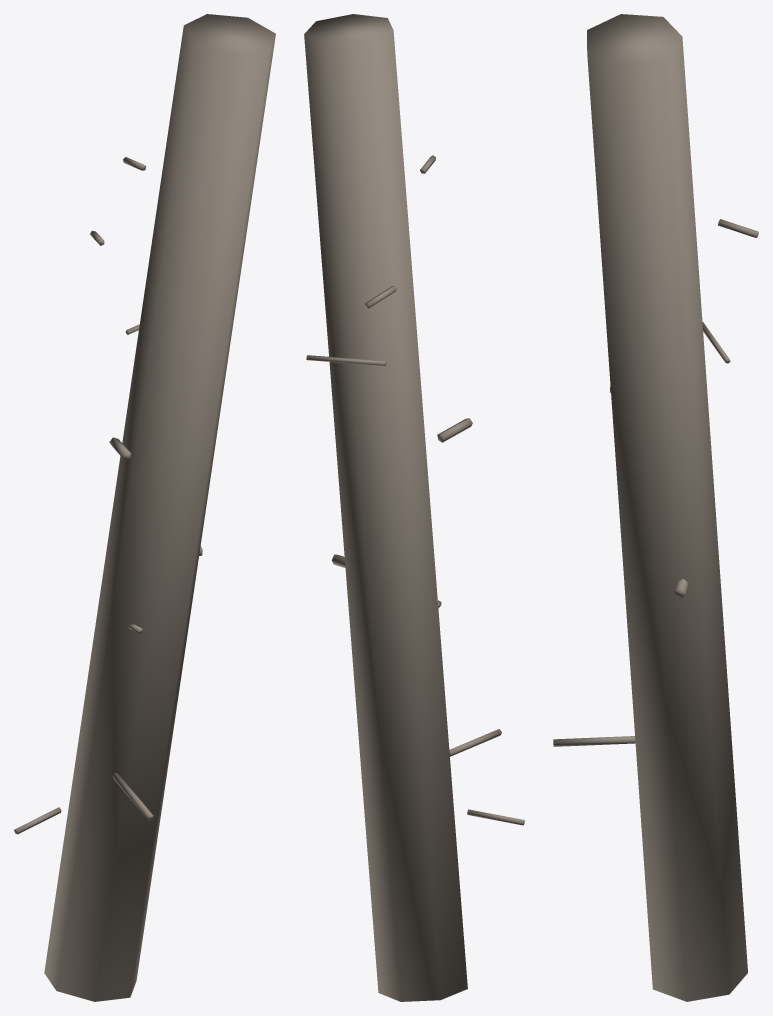
The model's file is snag_dead_broken.glb.
3 renders of one model, left to right at view 1: azimuth 30°, elevation 25°; view 2: azimuth 150°, elevation 25°; view 3: azimuth 270°, elevation 25°, orthographic. The views are drawn at different scales.
Parts seen in each view (by area): view 1: snag_dead_broken; view 2: snag_dead_broken; view 3: snag_dead_broken.
Part boxes in pixels (bbox=[...]): snag_dead_broken: bbox=[14, 14, 275, 1001]; snag_dead_broken: bbox=[304, 14, 524, 1001]; snag_dead_broken: bbox=[553, 14, 758, 1001].
Size of the model in its own units: 1.72 by 6.58 by 1.22.
